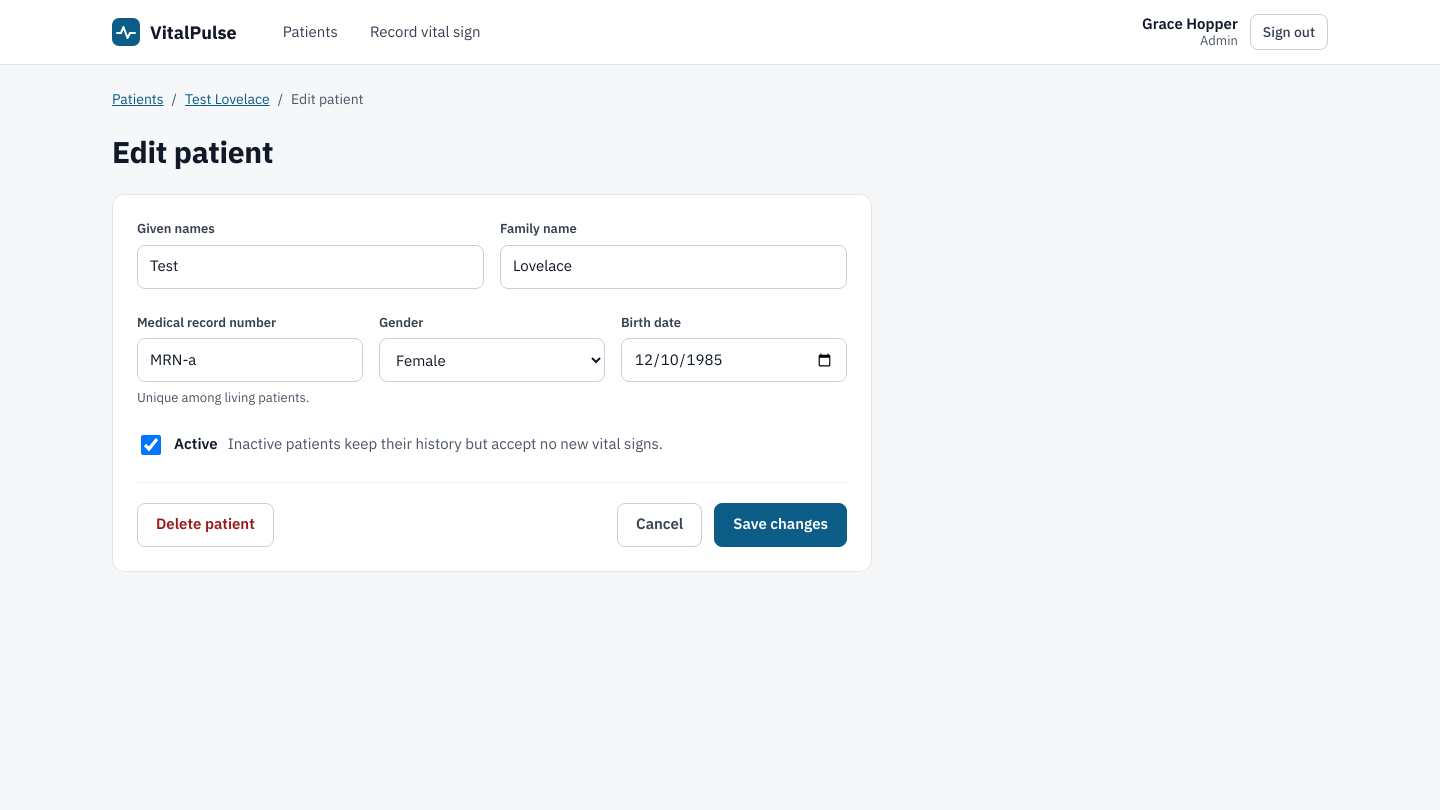
it: Patient form page › explains why a patient with observations cannot be deleted
Click the button "Delete patient" at [205, 524], box [137,502,274,546]
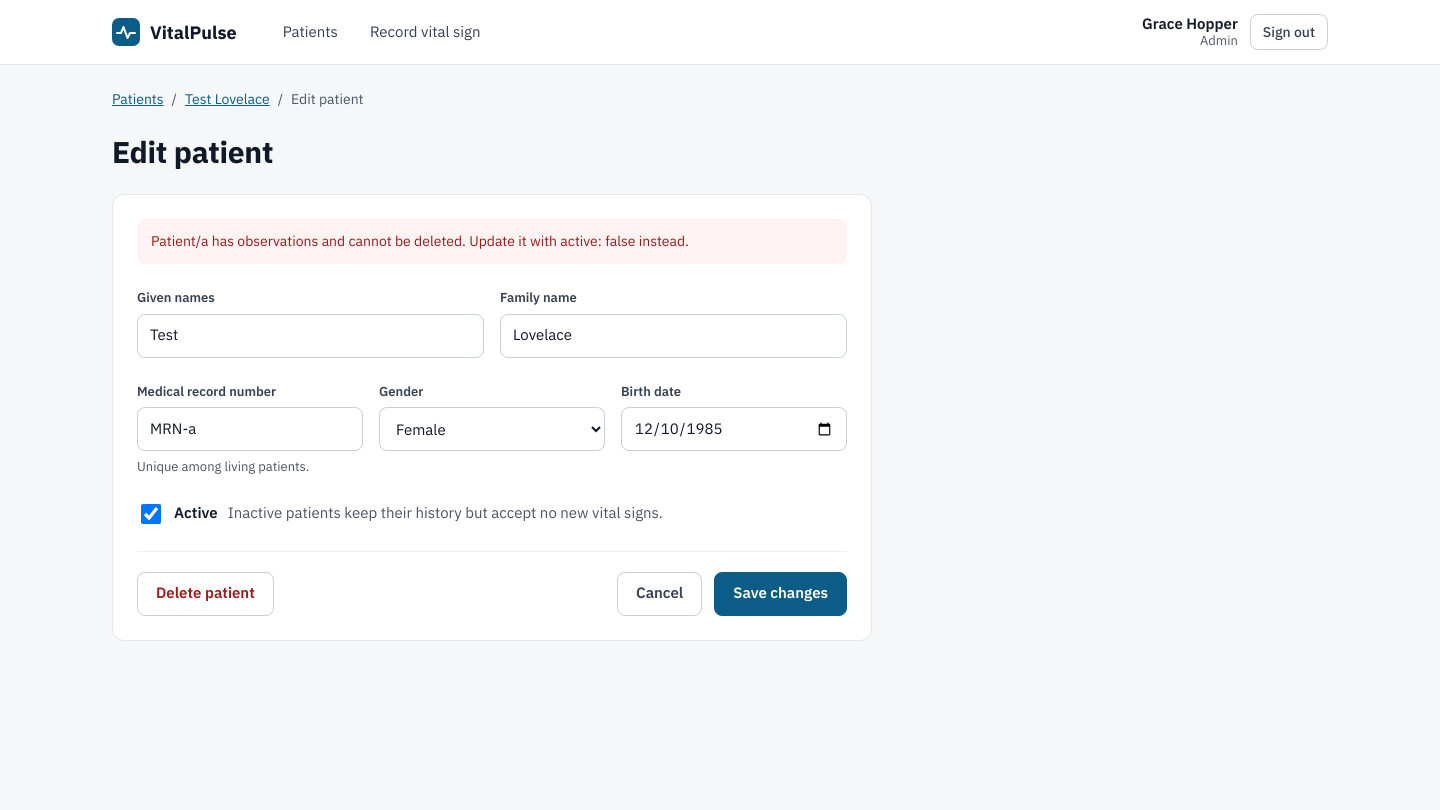
expect the message shows "has observations and cannot be deleted": met, box [151,232,689,250]
